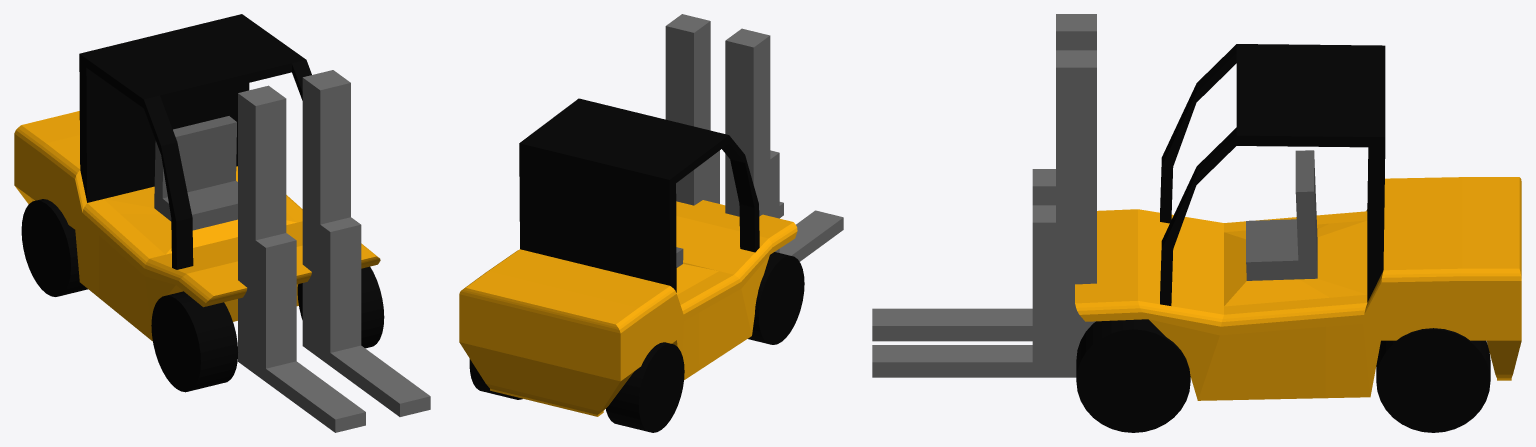
Rendered from forklift.fbx.
3 renders of one model, left to right at view 1: azimuth 30°, elevation 25°; view 2: azimuth 150°, elevation 25°; view 3: azimuth 270°, elevation 25°, orthographic. The views are drawn at different scales.
Parts seen in each view (by area): view 1: Cube, Cube.002, Cube.003; view 2: Cube, Cube.003, Cube.002; view 3: Cube, Cube.002, Cube.003.
Boxes of the visible parts, x1,y1,x2,y2 form: Cube: [14, 14, 384, 392]; Cube.002: [302, 70, 430, 416]; Cube.003: [238, 85, 365, 432]; Cube: [459, 98, 804, 432]; Cube.003: [725, 28, 843, 261]; Cube.002: [665, 14, 783, 217]; Cube: [1075, 44, 1521, 432]; Cube.002: [872, 50, 1096, 377]; Cube.003: [872, 14, 1096, 341].
Bounding box in the file's own units: 1192 × 1839 × 3168.
